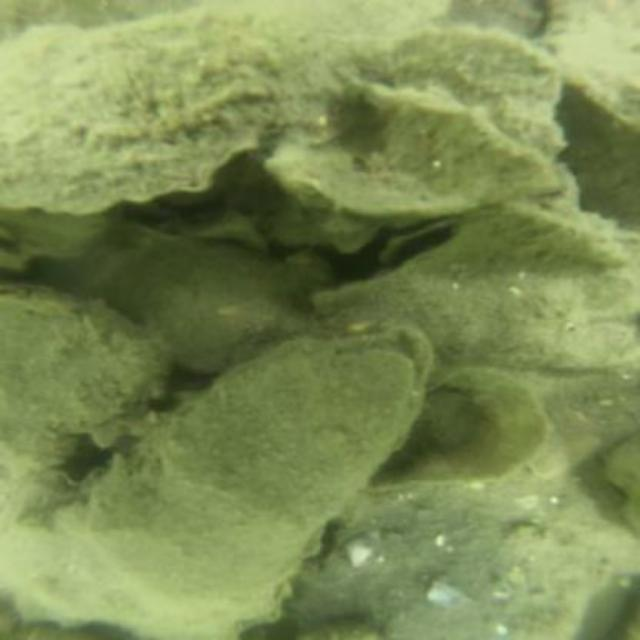Oyster-Closed: (91, 328, 445, 613), (0, 11, 382, 218), (320, 212, 628, 374), (0, 468, 286, 638), (259, 87, 580, 237), (6, 280, 170, 476), (84, 231, 305, 369), (387, 16, 575, 160), (355, 368, 554, 493), (544, 1, 638, 126)
Oyster-Open: (370, 212, 469, 272)
